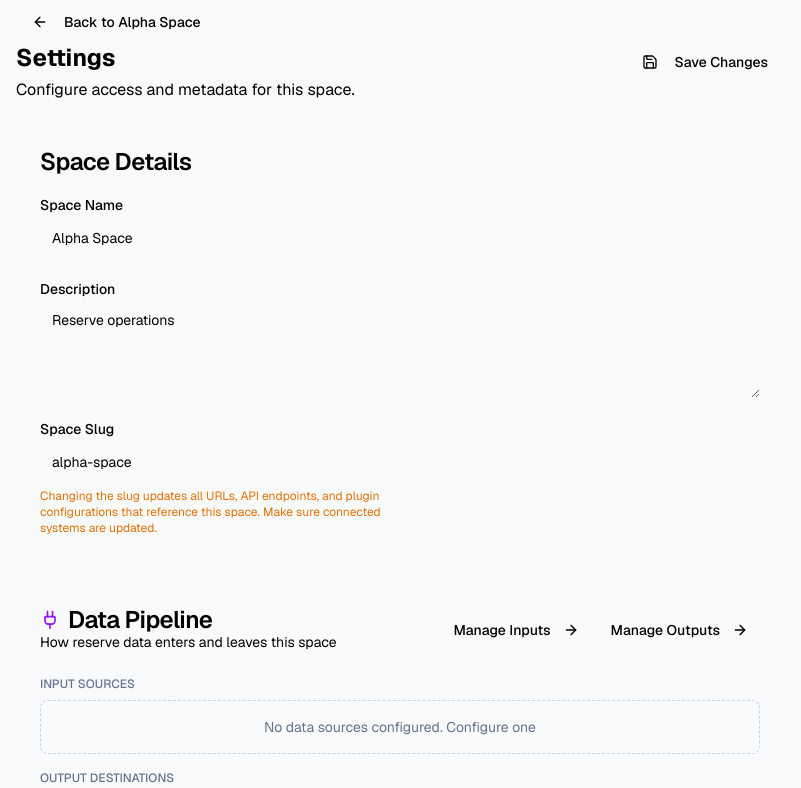
Scenario: Space settings management › tracks metadata changes, persists updates, and redirects when the slug drives the API identifier
Check: the button "Save Changes" is disabled, box [626, 42, 784, 82]
Clear the field labelled "Space Name". click: (232, 238)
box: [40, 218, 424, 258]
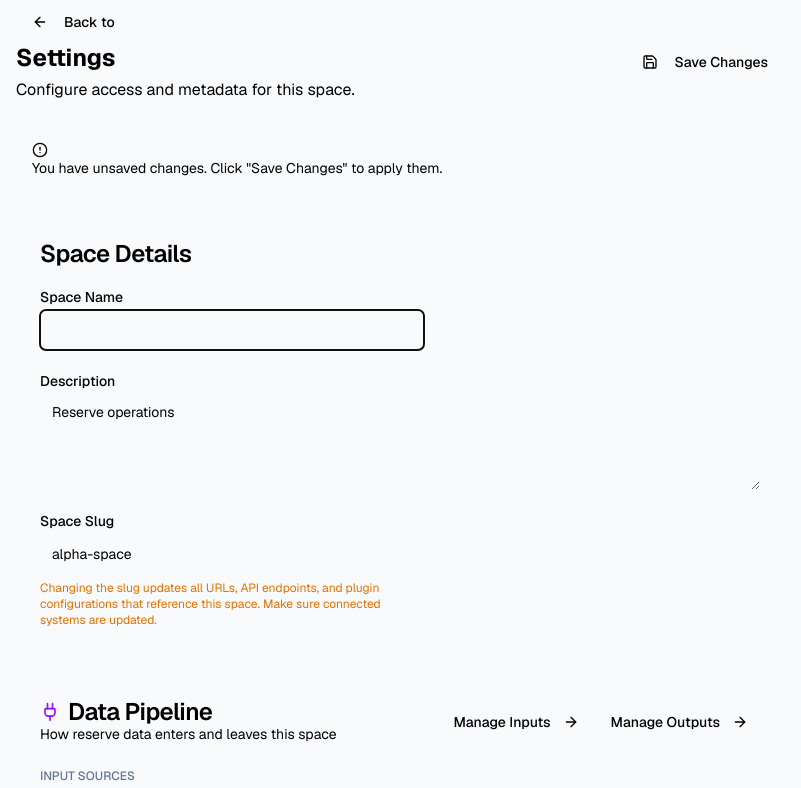
Type "Alpha Space Revamp" into the field labelled "Space Name". click: (232, 330)
box: [40, 310, 424, 350]
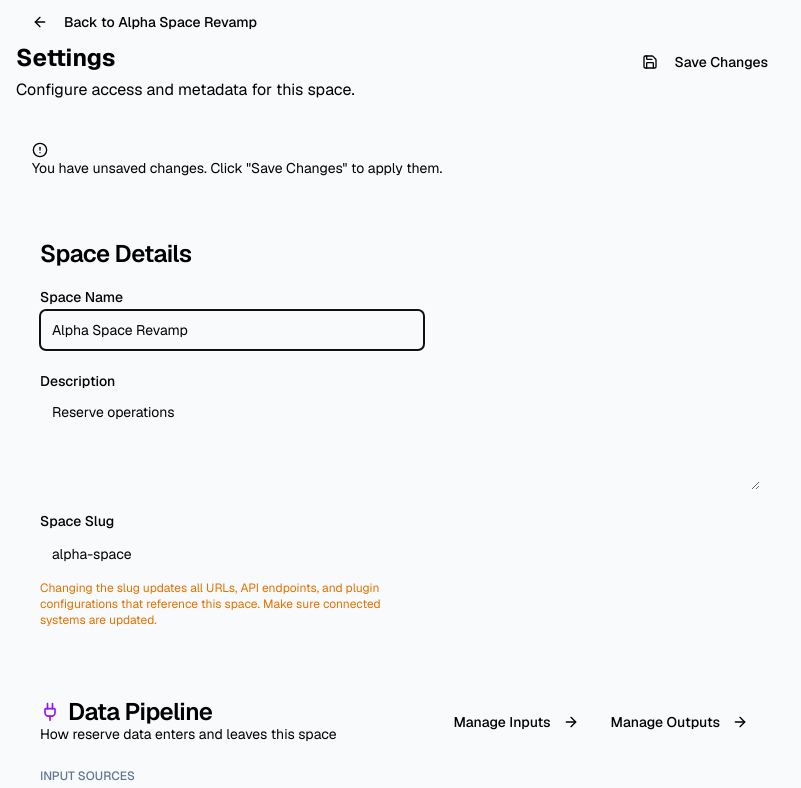
Replace the text in the text box labelled "Description" with "Updated reserve operations overview". click: (400, 442)
box: [40, 394, 760, 490]
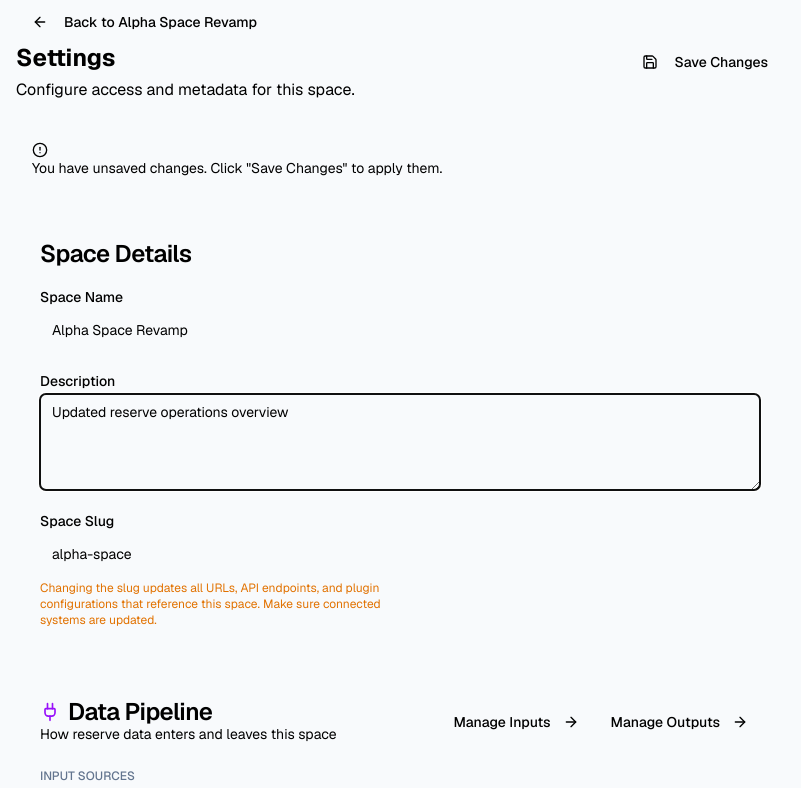
Replace the text in the field labelled "Space Slug" with "Alpha Space 2025". click: (232, 554)
box: [40, 534, 424, 574]
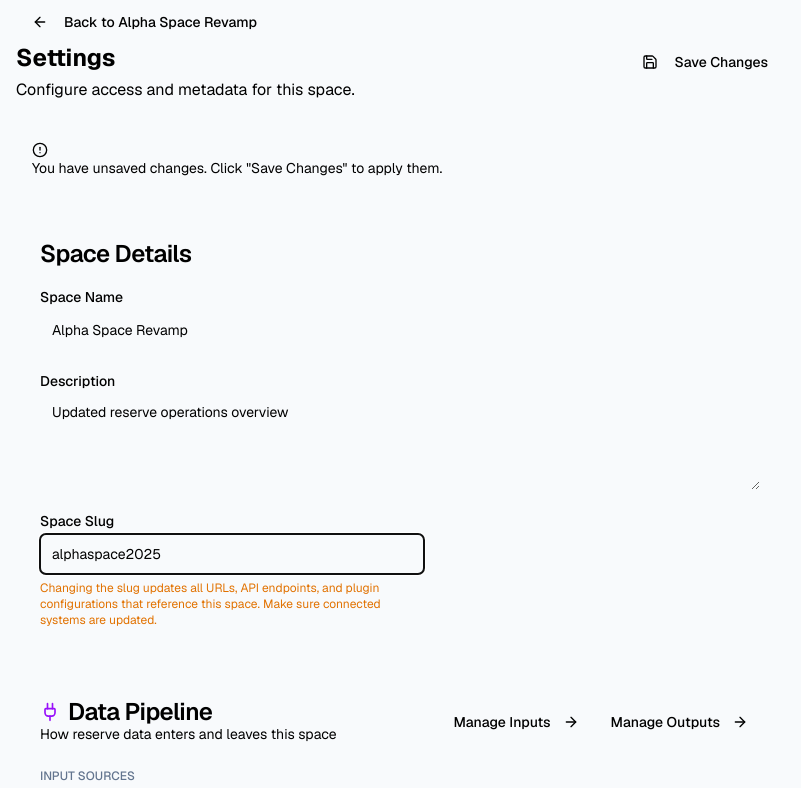
Check: the text "You have unsaved changes" is shown, box [32, 159, 442, 177]
Click the button "Save Changes". click: (705, 62)
box: [626, 42, 784, 82]
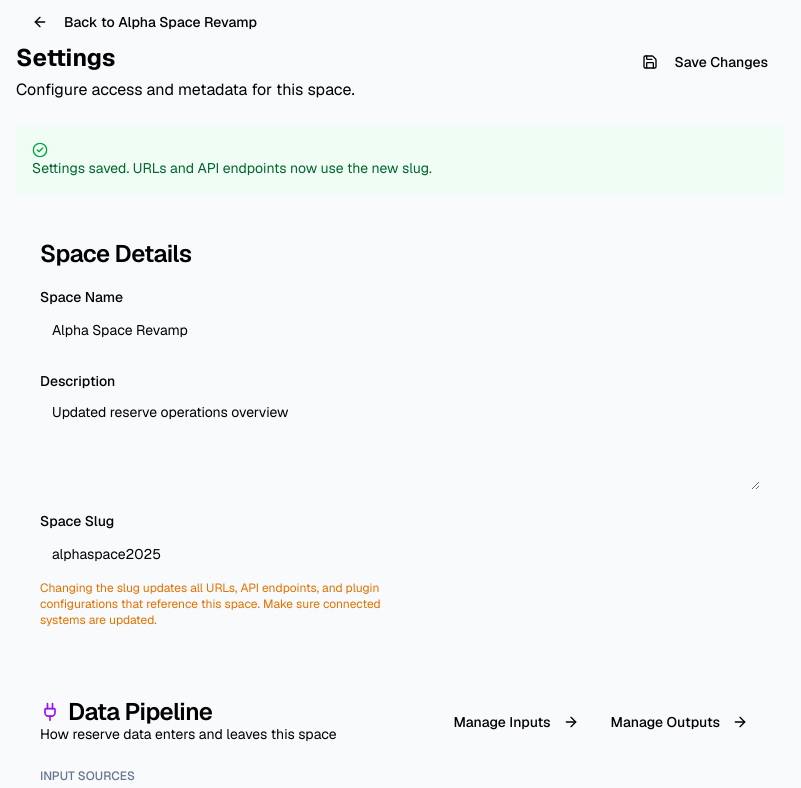
Check: the text "Settings saved. URLs and API endpoints now use the new slug." is shown, box [32, 159, 432, 177]
